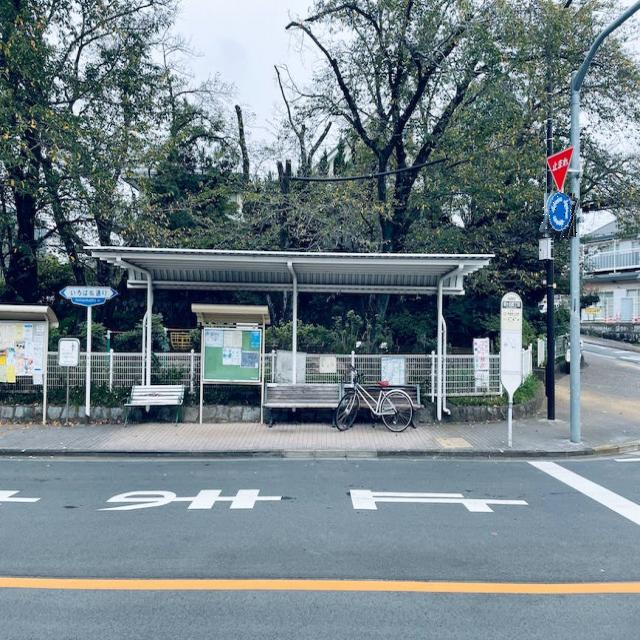roundabout: (541, 192, 578, 239)
